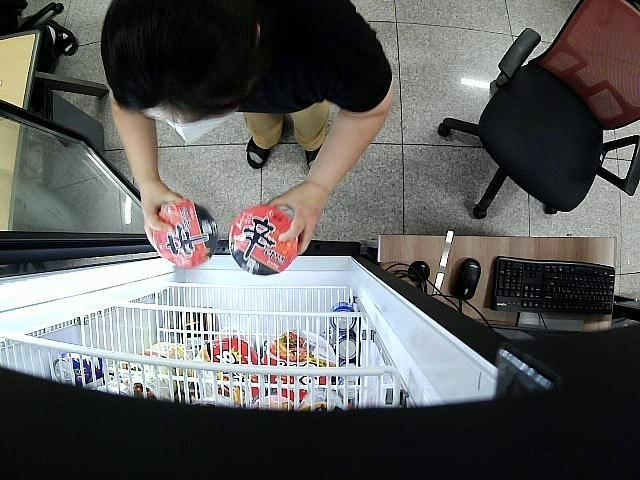01_ShinRamen_L: (228, 205, 298, 276), (152, 201, 218, 268)
